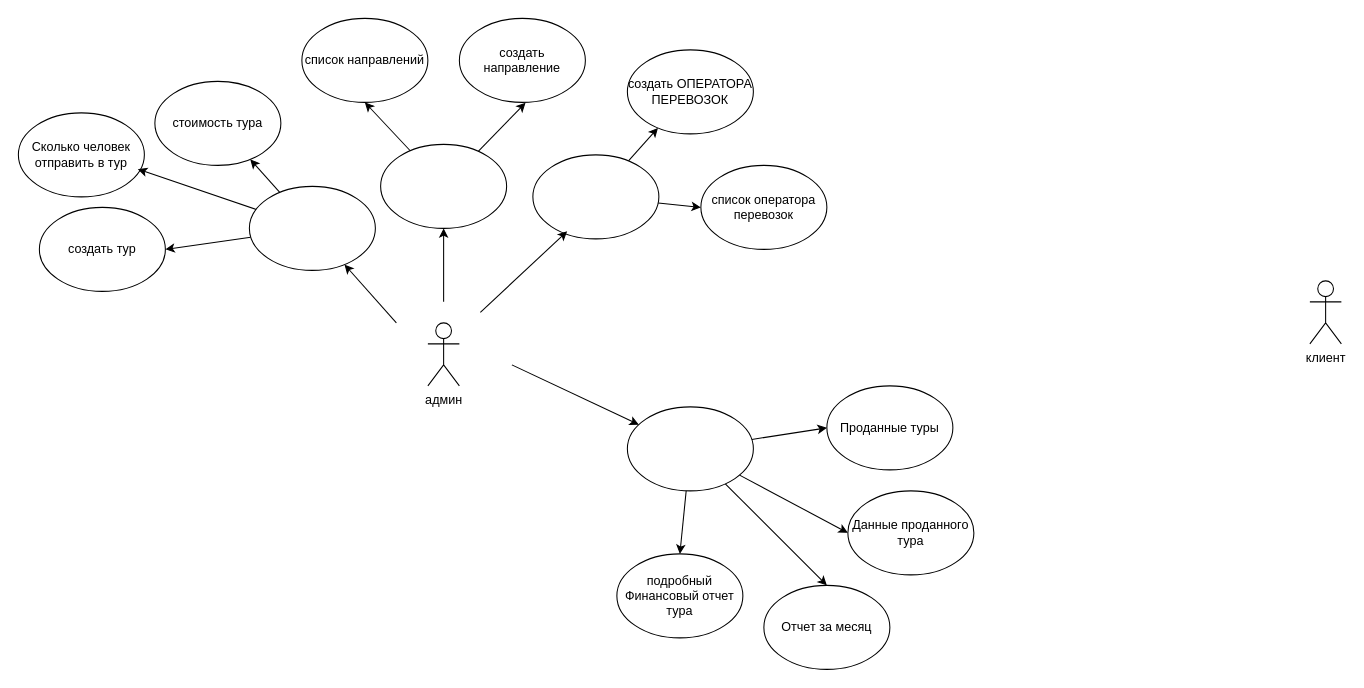
Some shapes in this 1364 by 688 pixel diagram are drawn without their labels. The centre of each missing label's shape, as x and y in pixels:
управление финансами: point 689,448
управлять направлениями: point 443,185
управлять Операторами перевозок: point 595,196
управлять турами: point 311,227
